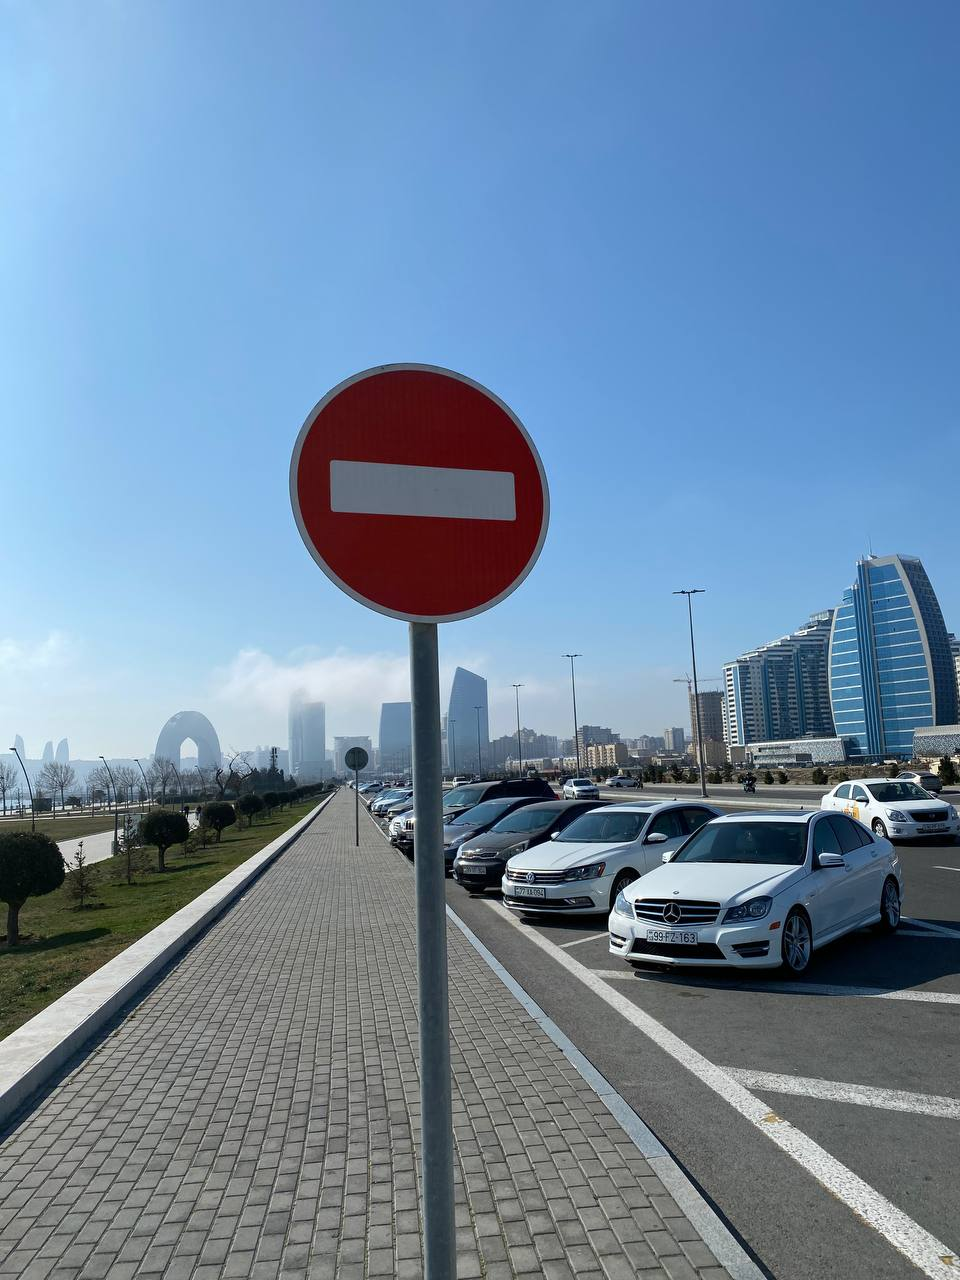No Entry: (288, 361, 551, 624)
